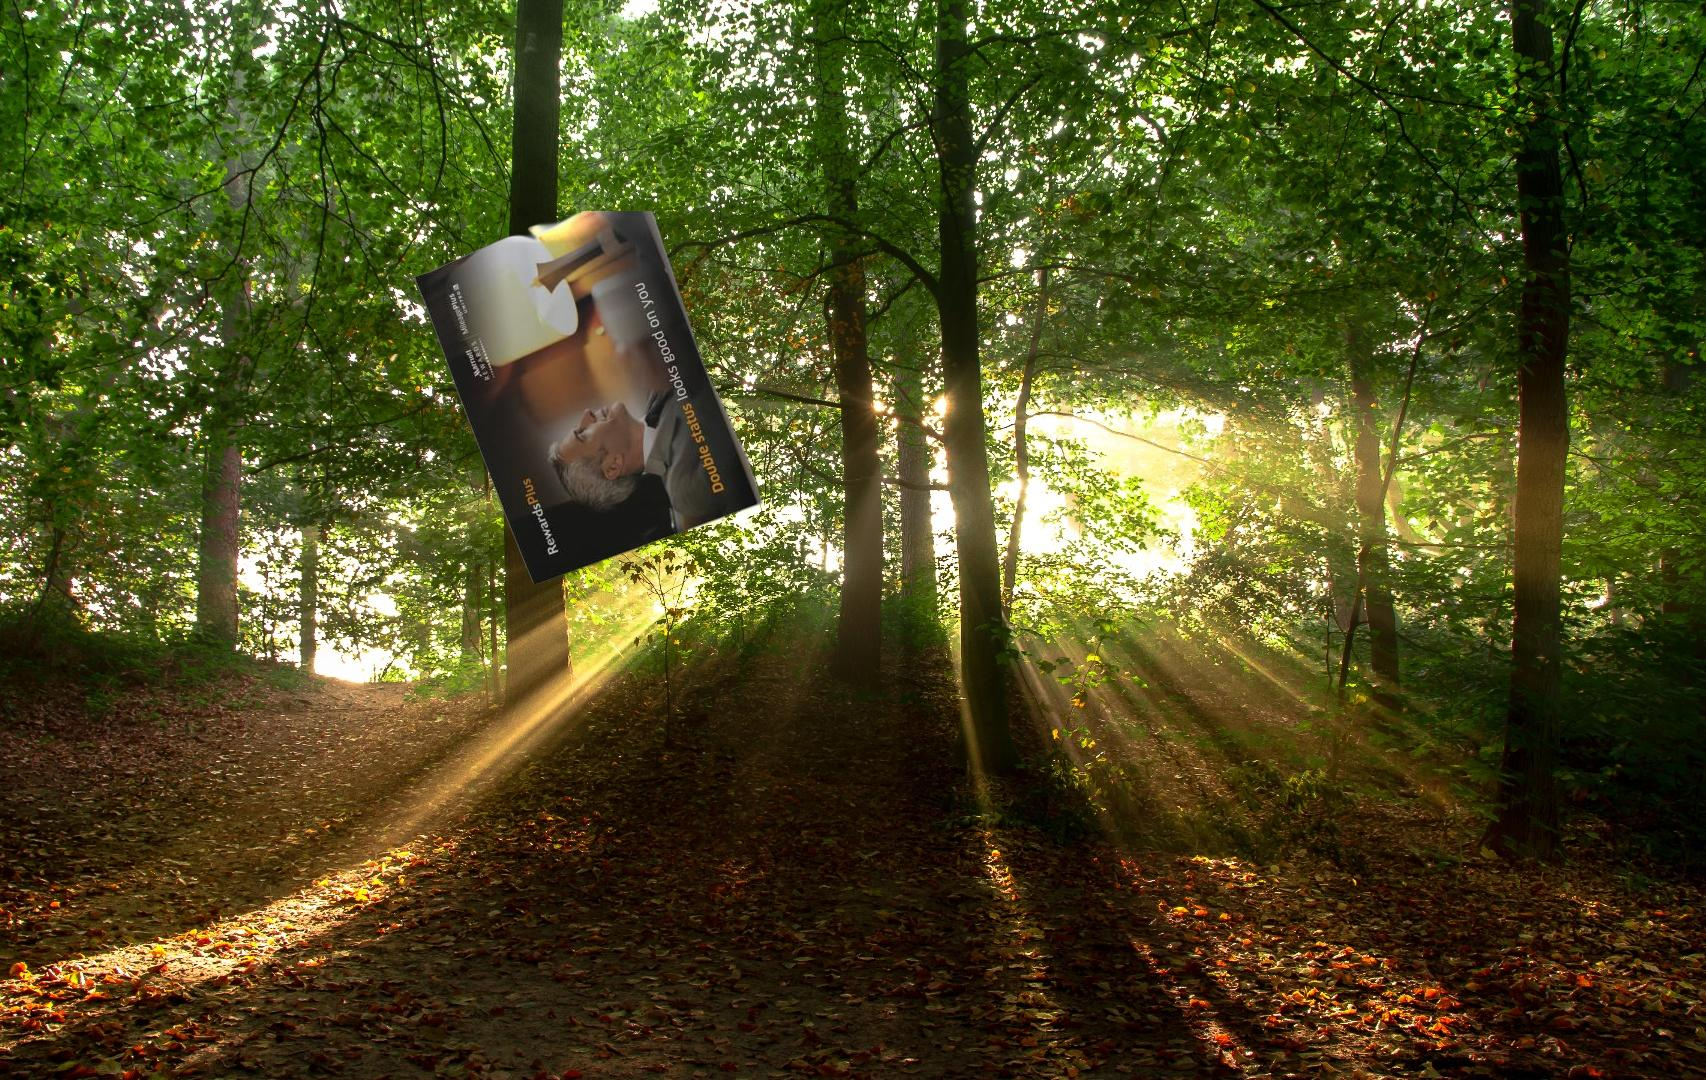paper: (413, 211, 767, 588)
